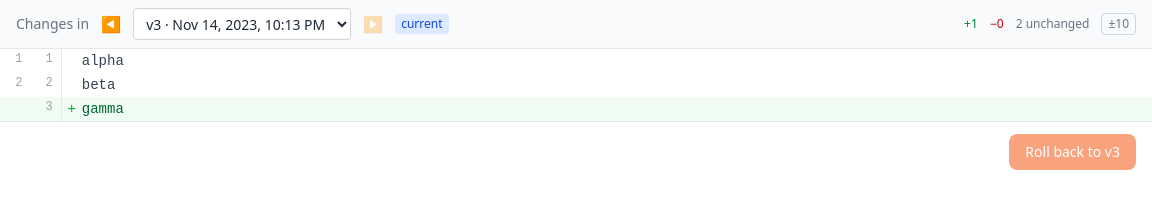
it: VfsHistory › reports a failed rollback inline
Expected: the text "gamma" is shown, [82, 101, 124, 117]
Click the button named "Previous version". click: (111, 24)
box: [95, 8, 127, 40]
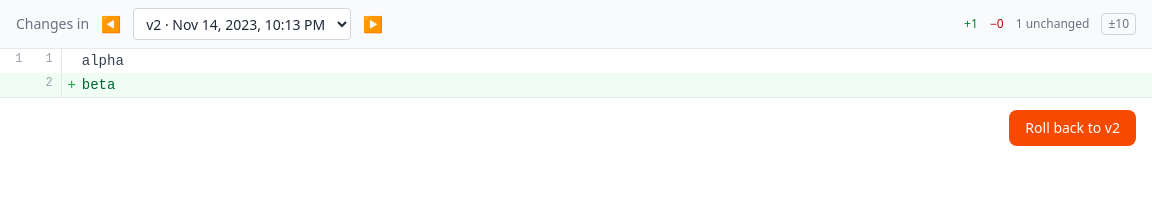
Expected: the button "Roll back to v2" is enabled
Click the button "Roll back to v2". click: (1073, 128)
box: [1009, 110, 1136, 146]
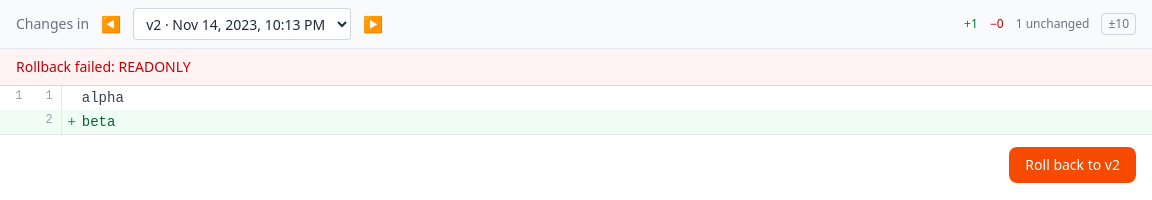
Expected: the message reads "Rollback failed: READONLY", [16, 57, 191, 76]
